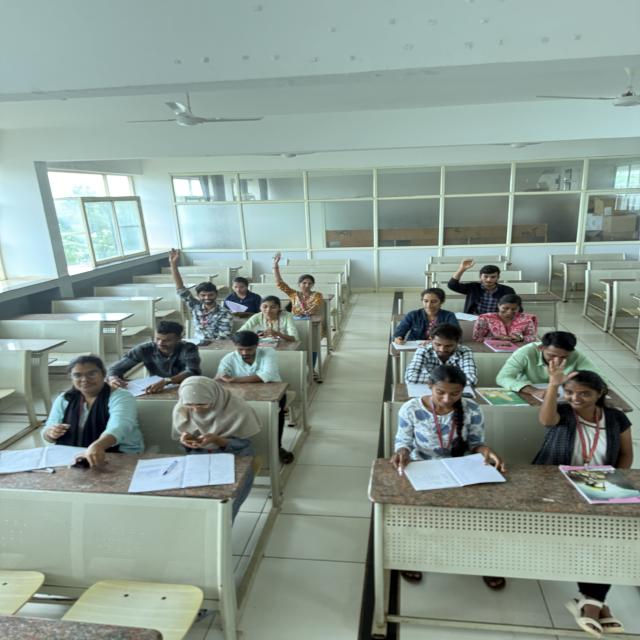Hand Rising: (533, 352, 636, 467), (152, 240, 232, 338), (256, 237, 334, 313)
Reading: (404, 373, 524, 491), (388, 326, 489, 400)
Using Phone: (162, 374, 263, 450), (244, 285, 326, 352), (448, 250, 519, 310), (479, 294, 550, 350)
Writing: (108, 317, 205, 407)
